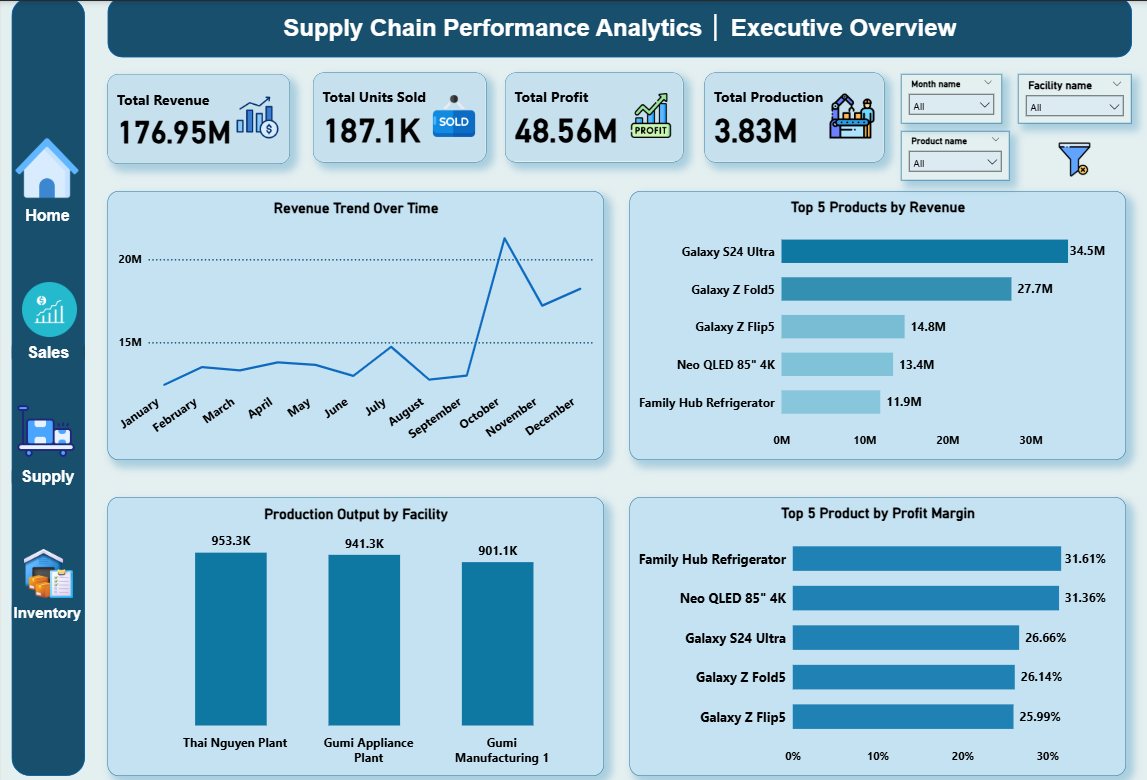

What the dashboard file says about the page in this screenshot:
{"tool":"powerbi","page":{"name":"Home","canvas":[1530,1100],"ordinal":0},"visuals":[{"type":"cardVisual","fields":{"Data":["Measure.Total Revenue"]},"box":[141,119,243,120],"z":0},{"type":"shape","box":[142,18,1366,80],"z":1000},{"type":"shape","box":[14,18,98,1038],"z":2000},{"type":"cardVisual","fields":{"Data":["Measure.Total Units Sold"]},"box":[415,118,231,120],"z":3000},{"type":"cardVisual","fields":{"Data":["Measure.Total Profit"]},"box":[672.7,117.3,238.2,120],"z":4000},{"type":"cardVisual","fields":{"Data":["Measure.Total Production"]},"box":[938.9,118.9,240,120],"z":5000},{"type":"lineChart","title":"Revenue Trend Over Time","fields":{"Category":["dim_date.month_name"],"Y":["Measure.Total Revenue"]},"box":[141.7,276.7,661.7,358.3],"z":6000},{"type":"clusteredBarChart","title":"Top 5 Products by Revenue","fields":{"Y":["Measure.Total Revenue"],"Category":["dim_product.product_name"]},"box":[838.3,276.7,661.7,358.3],"z":7000},{"type":"clusteredColumnChart","title":"Production Output by Facility","fields":{"Category":["dim_facility.facility_name"],"Y":["Measure.Total Production"]},"box":[141.7,683.3,661.7,371.7],"z":8000},{"type":"clusteredBarChart","title":"Top 5 Product by Profit Margin ","fields":{"Category":["dim_product.product_name"],"Y":["Measure.Profit Margin %"]},"box":[838.3,683.3,661.7,371.7],"z":9000},{"type":"slicer","fields":{"Values":["dim_date.month_name"]},"box":[1200.8,119.2,134.6,66.2],"z":10000},{"type":"slicer","fields":{"Values":["dim_product.product_name"]},"box":[1200.8,196.2,144.6,66.2],"z":11000},{"type":"slicer","fields":{"Values":["dim_facility.facility_name"]},"box":[1356.2,119.2,151.5,66.2],"z":12000},{"type":"image","box":[1390,205.7,82.9,55.7],"z":13000},{"type":"image","box":[14,196,94,98],"z":14000},{"type":"shape","box":[21,294,80,30],"z":15000},{"type":"image","box":[15,410,96.7,93.3],"z":16000},{"type":"shape","box":[15,503.3,97.5,30],"z":16001}]}

Visuals, with their boxes on the page's 1530x1100 design canvas (x1, y1, x2, y2). These are canvas units, not pixel positions in the 1147x780 screenshot, which may show the page scaled, cropped or inside an application window:
cardVisual - Measure.Total Revenue: [141, 119, 384, 239]
shape: [142, 18, 1508, 98]
shape: [14, 18, 112, 1056]
cardVisual - Measure.Total Units Sold: [415, 118, 646, 238]
cardVisual - Measure.Total Profit: [673, 117, 911, 237]
cardVisual - Measure.Total Production: [939, 119, 1179, 239]
"Revenue Trend Over Time" lineChart: [142, 277, 803, 635]
"Top 5 Products by Revenue" clusteredBarChart: [838, 277, 1500, 635]
"Production Output by Facility" clusteredColumnChart: [142, 683, 803, 1055]
"Top 5 Product by Profit Margin " clusteredBarChart: [838, 683, 1500, 1055]
slicer - dim_date.month_name: [1201, 119, 1335, 185]
slicer - dim_product.product_name: [1201, 196, 1345, 262]
slicer - dim_facility.facility_name: [1356, 119, 1508, 185]
image: [1390, 206, 1473, 261]
image: [14, 196, 108, 294]
shape: [21, 294, 101, 324]
image: [15, 410, 112, 503]
shape: [15, 503, 112, 533]
